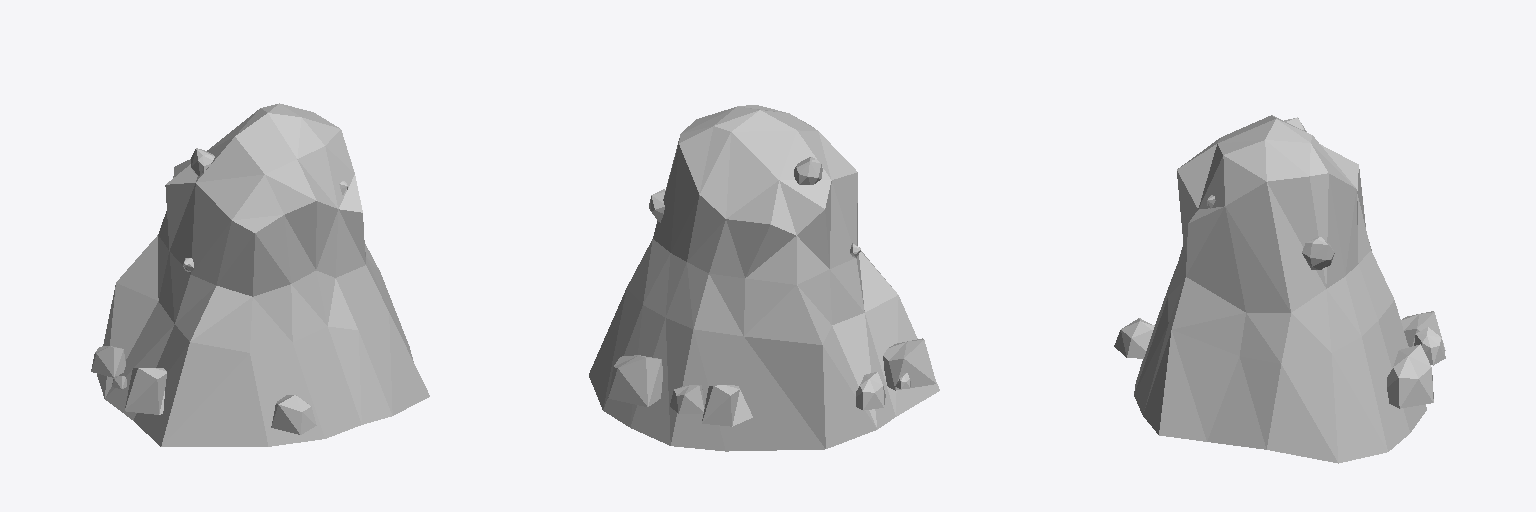
Rendered from obstacle3-2.obj.
The picture shows the model from 3 angles: view 1: azimuth 30°, elevation 25°; view 2: azimuth 150°, elevation 25°; view 3: azimuth 270°, elevation 25°; orthographic projection.
Visible parts, largest first — view 1: Cube.004_Cube.029; view 2: Cube.004_Cube.029; view 3: Cube.004_Cube.029.
Boxes of the visible parts, <box> form: Cube.004_Cube.029: <box>91,103,429,446</box>; Cube.004_Cube.029: <box>589,105,939,451</box>; Cube.004_Cube.029: <box>1114,115,1445,463</box>.
Bounding box in the file's own units: 3.73 × 3.37 × 3.57.